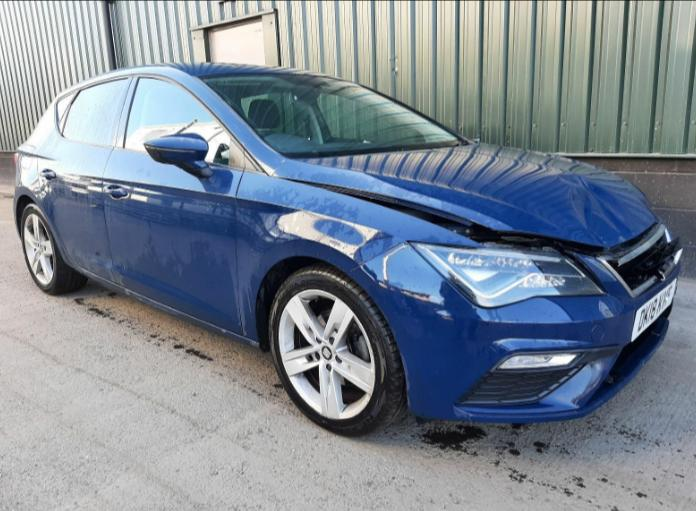Broken part: (275, 176, 657, 289), (607, 224, 683, 297)
Dent: (556, 172, 647, 248)
Flaking: (51, 196, 262, 335), (401, 352, 411, 406)
Scratch: (570, 376, 600, 408), (135, 293, 178, 314)
